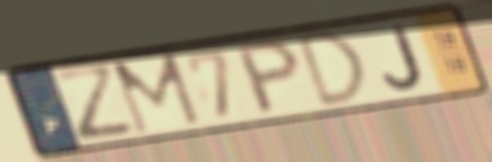7: (183, 48, 234, 121)
D: (294, 28, 372, 112)
J: (380, 23, 426, 92)
M: (108, 50, 205, 138)
P: (234, 38, 304, 119)
Z: (49, 62, 142, 145)
